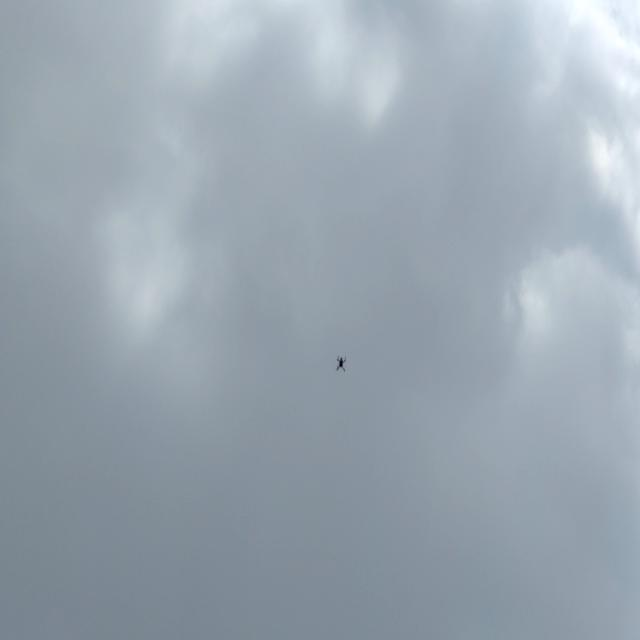drone: (331, 353, 352, 376)
